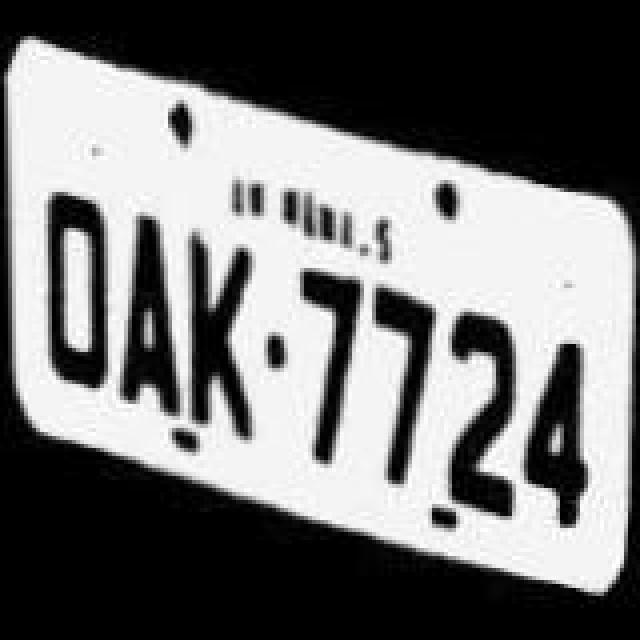2: (438, 304, 522, 528)
4: (520, 338, 592, 542)
7: (366, 278, 442, 498), (290, 262, 370, 470)
A: (112, 210, 188, 422)
K: (176, 226, 260, 446)
O: (30, 182, 118, 402)
